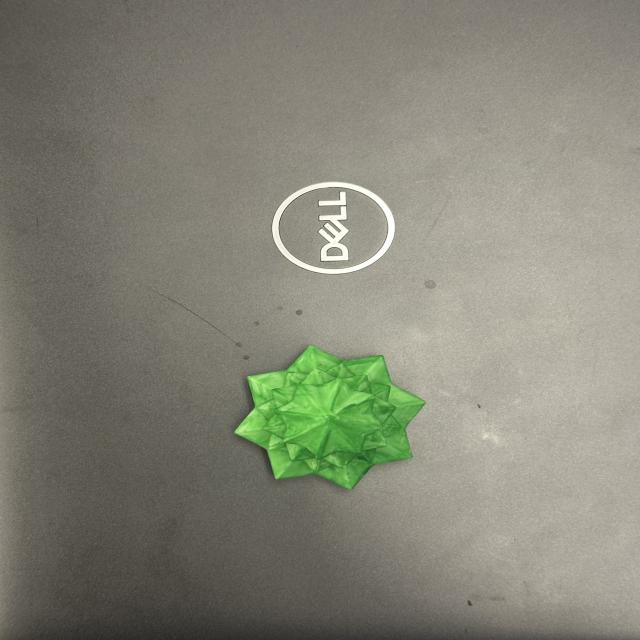tree: (233, 344, 426, 490)
